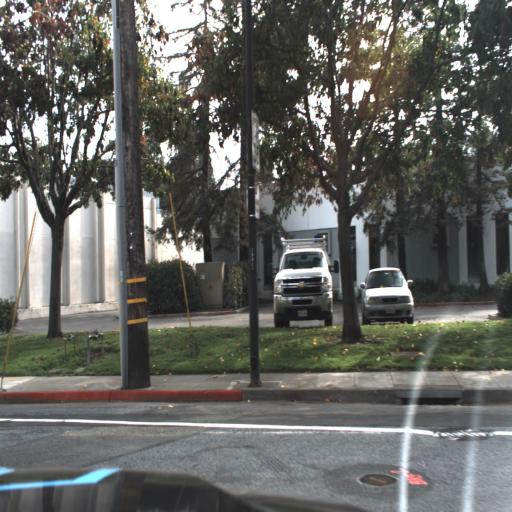car: (274, 245, 333, 328), (361, 265, 415, 326)
